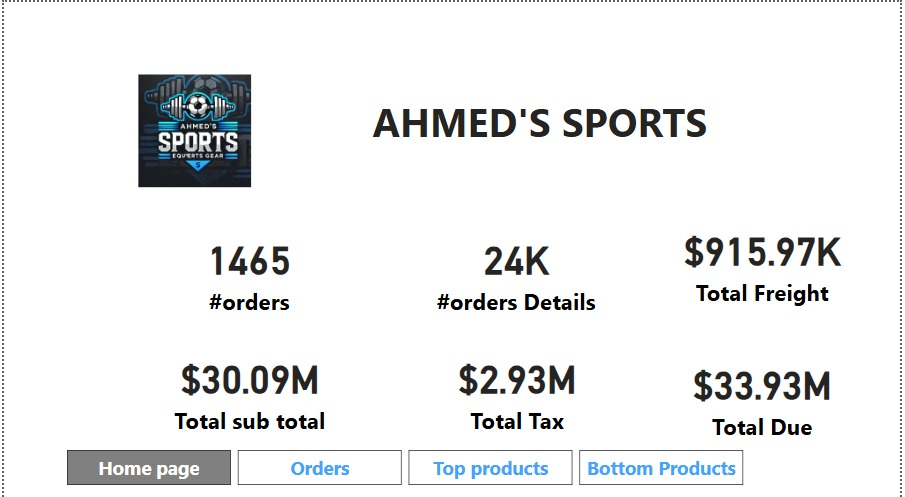

Layout of this report page (visuals, bound fields, positions):
{"tool":"powerbi","page":{"name":"Home page","canvas":[1280,720],"ordinal":0},"visuals":[{"type":"card","fields":{"Values":["Dax measures.#orders"]},"box":[228.5,299,243.6,171.3],"z":0},{"type":"card","fields":{"Values":["Dax measures.#orders Details"]},"box":[611.4,299,240.2,171.3],"z":1000},{"type":"card","fields":{"Values":["Dax measures.Total Tax"]},"box":[611.4,468.7,243.6,171.3],"z":2000},{"type":"card","fields":{"Values":["Dax measures.Total Freight"]},"box":[960.8,285.6,243.6,171.3],"z":3000},{"type":"card","fields":{"Values":["Dax measures.Total Due"]},"box":[960.8,477.1,243.6,171.3],"z":4000},{"type":"image","box":[0,99.1,545.9,171.3],"z":5000},{"type":"textbox","box":[520.7,127.7,527.5,171.3],"z":6000},{"type":"pageNavigator","box":[90,640,967.8,50],"z":7000},{"type":"card","fields":{"Values":["Dax measures.Total sub total"]},"box":[218.4,488.8,265.4,131],"z":8000}]}

Visuals, with their boxes in screenshot pixels (x1, y1, x2, y2), scaled from the page's 1280x720 canvas onto the 905x497 screenshot:
card - Dax measures.#orders: <region>162, 206, 334, 325</region>
card - Dax measures.#orders Details: <region>432, 206, 602, 325</region>
card - Dax measures.Total Tax: <region>432, 324, 605, 442</region>
card - Dax measures.Total Freight: <region>679, 197, 852, 315</region>
card - Dax measures.Total Due: <region>679, 329, 852, 448</region>
image: <region>0, 68, 386, 187</region>
textbox: <region>368, 88, 741, 206</region>
pageNavigator: <region>64, 442, 748, 476</region>
card - Dax measures.Total sub total: <region>154, 337, 342, 428</region>
